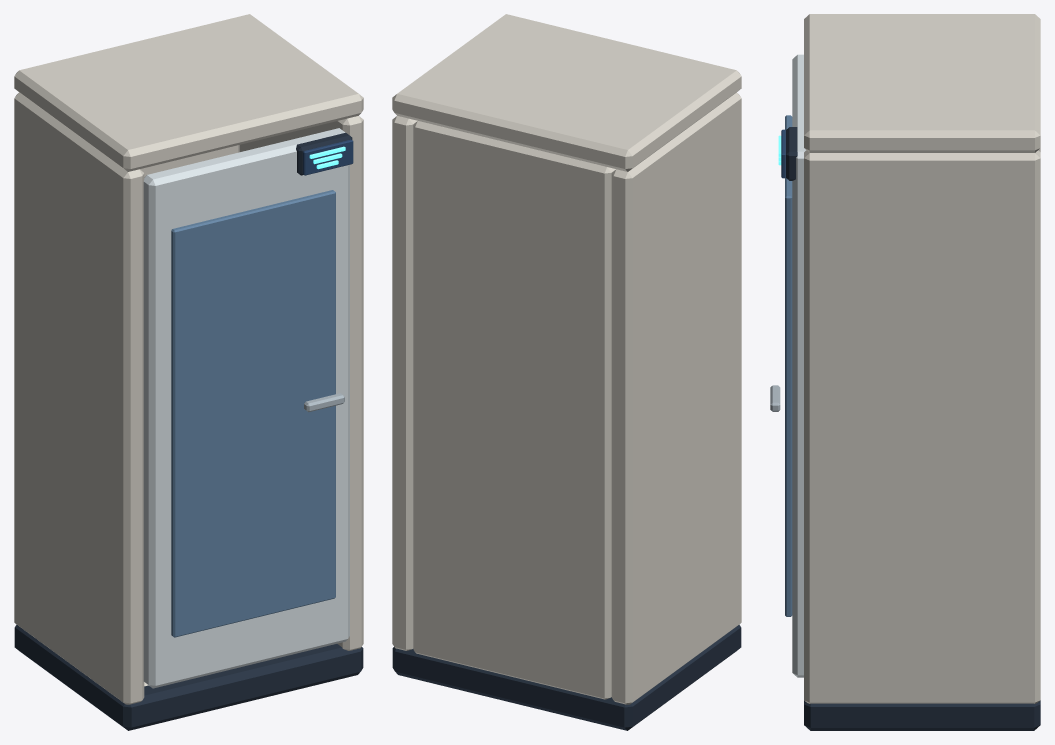
The model's file is lab_06.glb.
3 renders of one model, left to right at view 1: azimuth 30°, elevation 25°; view 2: azimuth 150°, elevation 25°; view 3: azimuth 270°, elevation 25°, orthographic. The views are drawn at different scales.
Parts seen in each view (by area): view 1: Side (×2), InsetPanel, DoorPanel, Top, Base, Screen, Back, MonitorFrame; view 2: Back, Side (×2), Top, Base; view 3: Side, Top, DoorPanel, Base, InsetPanel, MonitorFrame.
Boxes of the visible parts, x1,y1,x2,y2 form: Side (×2): [14, 92, 363, 704]; InsetPanel: [171, 190, 335, 637]; DoorPanel: [143, 128, 349, 688]; Top: [14, 14, 363, 171]; Base: [14, 624, 363, 730]; Screen: [303, 139, 353, 175]; Back: [140, 145, 239, 177]; MonitorFrame: [296, 132, 352, 175]; Back: [413, 121, 615, 699]; Side (×2): [392, 92, 741, 704]; Top: [392, 14, 741, 171]; Base: [392, 624, 741, 730]; Side: [804, 150, 1040, 703]; Top: [804, 14, 1040, 152]; DoorPanel: [792, 54, 806, 677]; Base: [804, 700, 1040, 730]; InsetPanel: [785, 115, 792, 616]; MonitorFrame: [786, 127, 797, 180].
Bounding box in the file's own units: 0.8 × 1.85 × 0.754.
